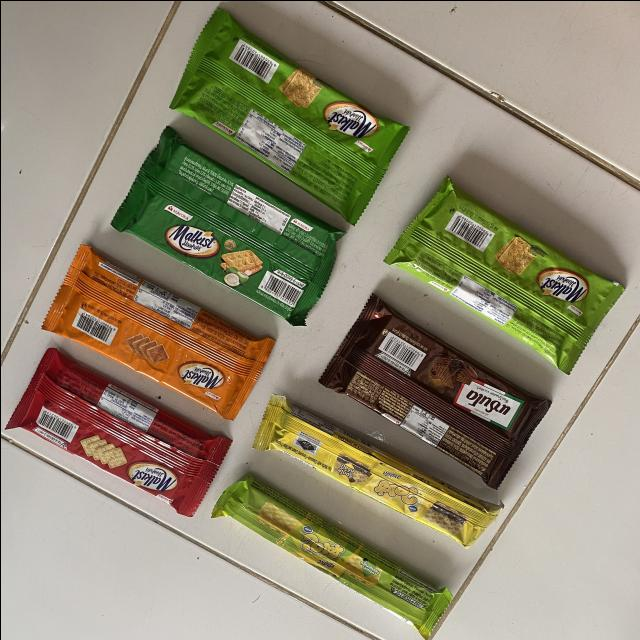plastik: (170, 7, 409, 224), (384, 177, 624, 372), (110, 126, 343, 325), (319, 294, 549, 488), (41, 244, 274, 419), (210, 474, 452, 638), (252, 394, 502, 547), (4, 347, 230, 516)
